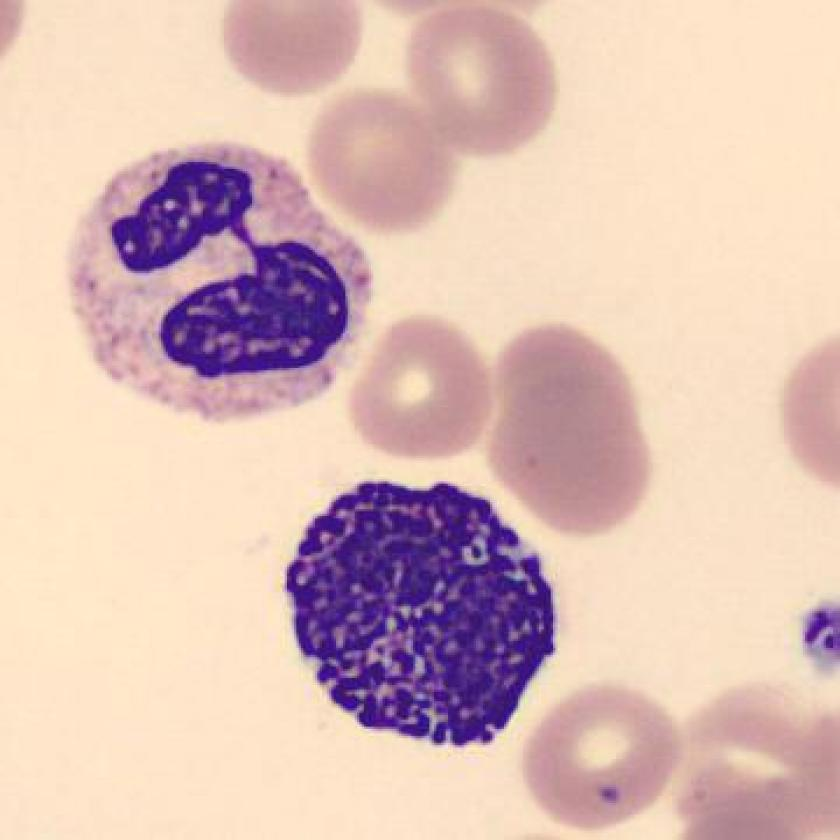basophil: (60, 131, 375, 425), (284, 471, 578, 760)
